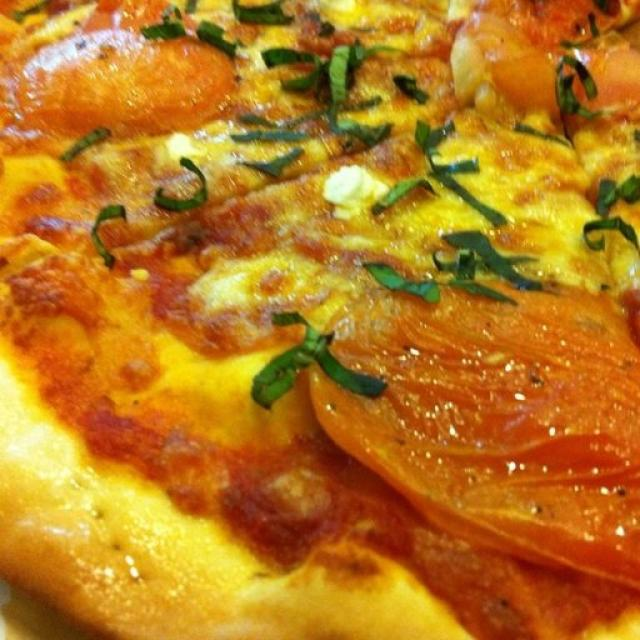Basil: (380, 124, 513, 228), (254, 310, 384, 400), (261, 39, 397, 100), (281, 49, 371, 131), (439, 231, 536, 292), (588, 175, 640, 251), (147, 8, 240, 48), (246, 108, 356, 139), (368, 261, 440, 301), (160, 158, 209, 210), (89, 200, 125, 267), (167, 154, 200, 218), (91, 205, 123, 269), (227, 0, 294, 24), (241, 154, 297, 182), (375, 182, 432, 208), (63, 128, 108, 157), (238, 6, 294, 27)
Tomato: (313, 289, 640, 582), (29, 35, 228, 126), (478, 1, 640, 106)
